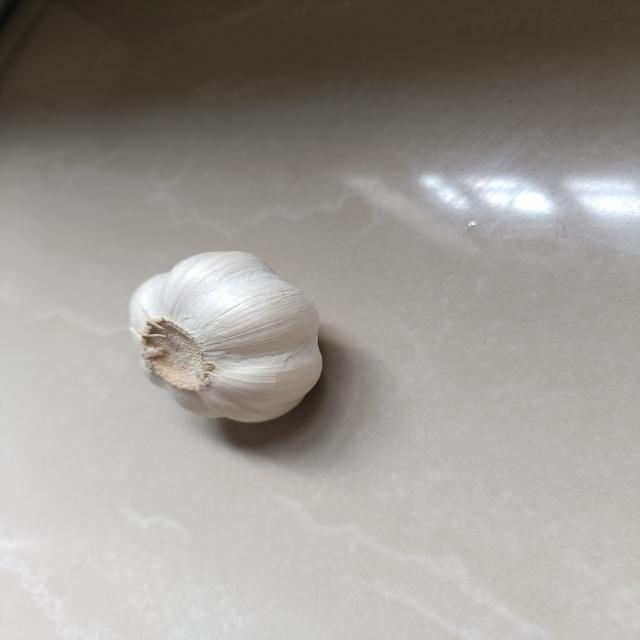garlic: (120, 248, 327, 427)
